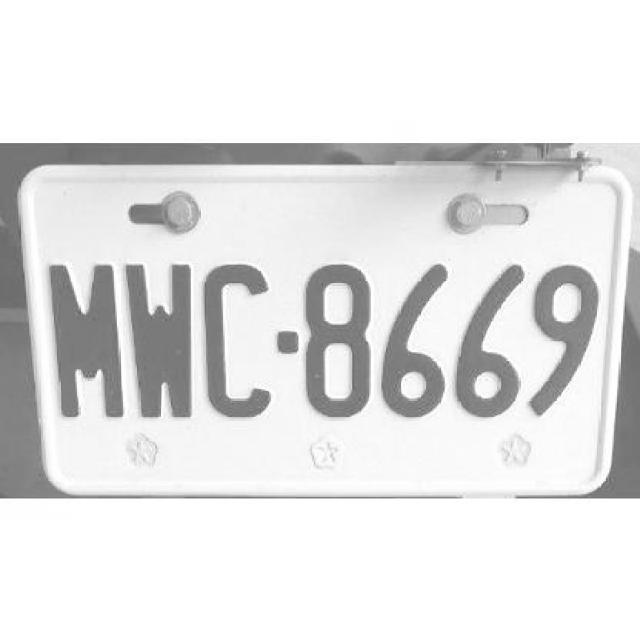-: (272, 328, 298, 355)
6: (451, 252, 526, 426), (377, 254, 449, 426)
8: (302, 249, 372, 422)
9: (524, 256, 602, 418)
C: (198, 255, 270, 423)
M: (41, 259, 126, 418)
W: (125, 260, 200, 423)
